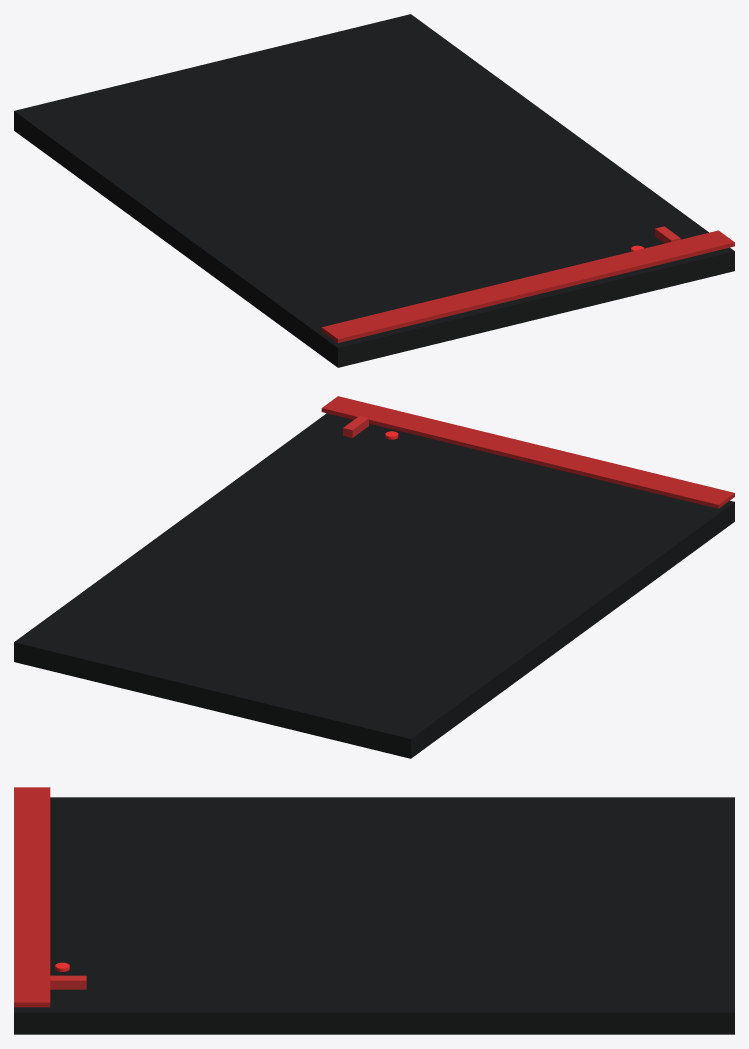
Rendered from Menu A4 fomex cán decal.obj.
The picture shows the model from 3 angles, top to bottom: view 1: azimuth 30°, elevation 25°; view 2: azimuth 150°, elevation 25°; view 3: azimuth 270°, elevation 25°; orthographic projection. The views are drawn at different scales.
Parts seen in each view (by area): view 1: black, red; view 2: black, red; view 3: black, red, cokered.
Boxes of the visible parts, box(x1,y1,x2,y2) form: black: box(14, 14, 734, 367); red: box(321, 230, 734, 342); black: box(14, 413, 734, 758); red: box(321, 396, 734, 508); black: box(14, 797, 734, 1034); red: box(14, 787, 50, 1007); cokered: box(50, 975, 86, 989).
Size of what is drawn, in the model's own units: 0.21 by 0.0152 by 0.297.
